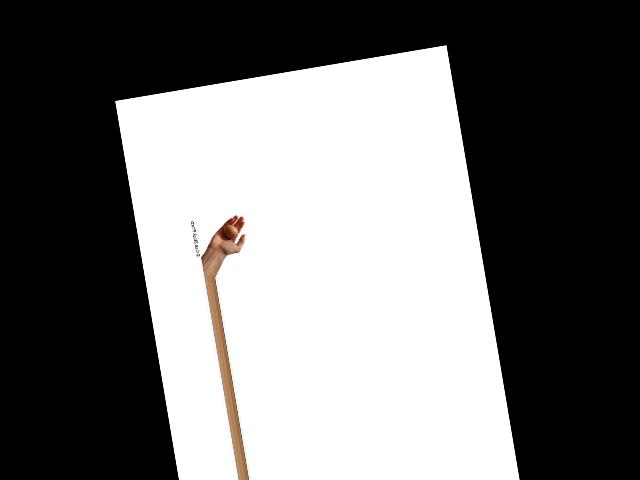egg: (222, 223, 238, 238)
